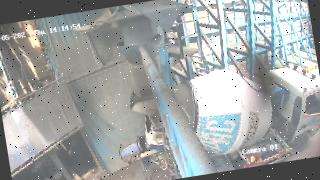cement_mixer_truck: (130, 61, 320, 180)
swing_chute: (118, 37, 169, 94)
